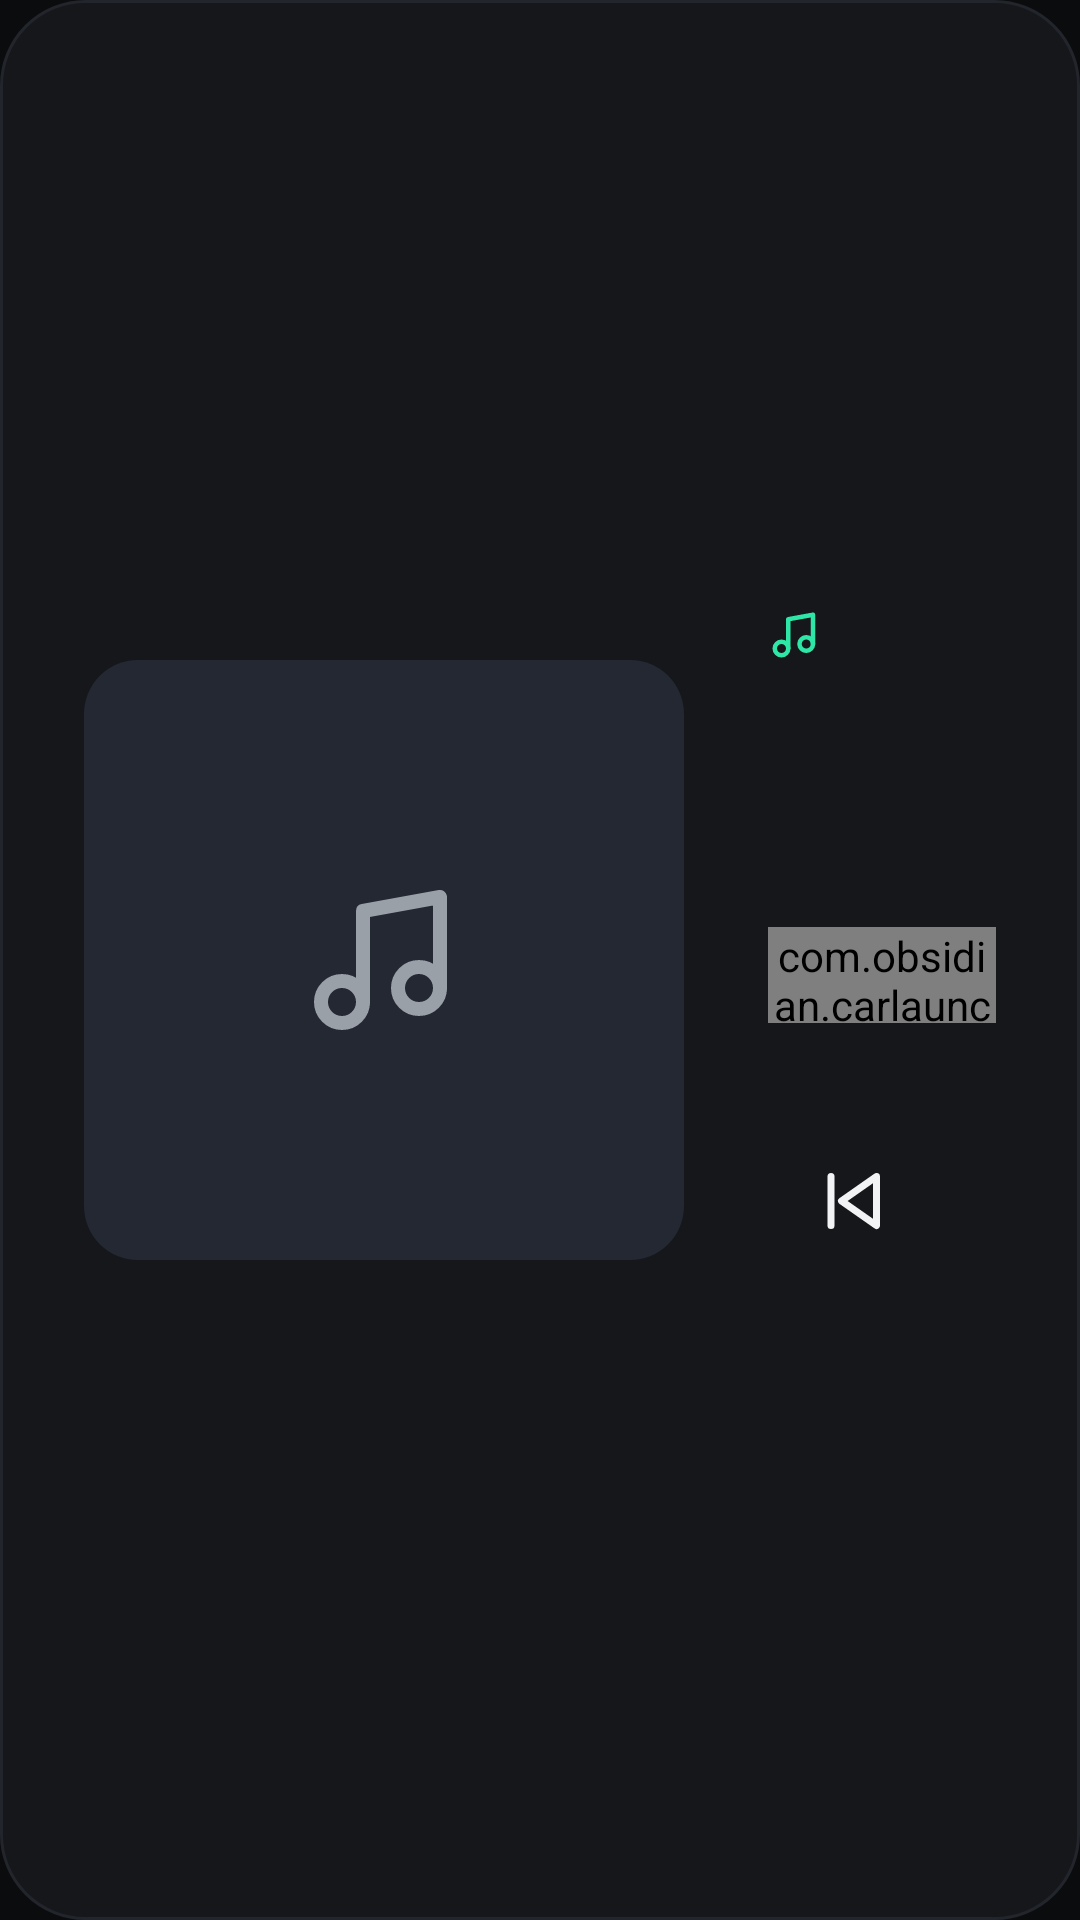

Locate icon controls on the screen. Image size 1080 x 1920, boxes as (x1, y1, x2, y2).
music: (772, 612, 816, 658), (314, 890, 447, 1030)
Previous track: (827, 1173, 880, 1230)
